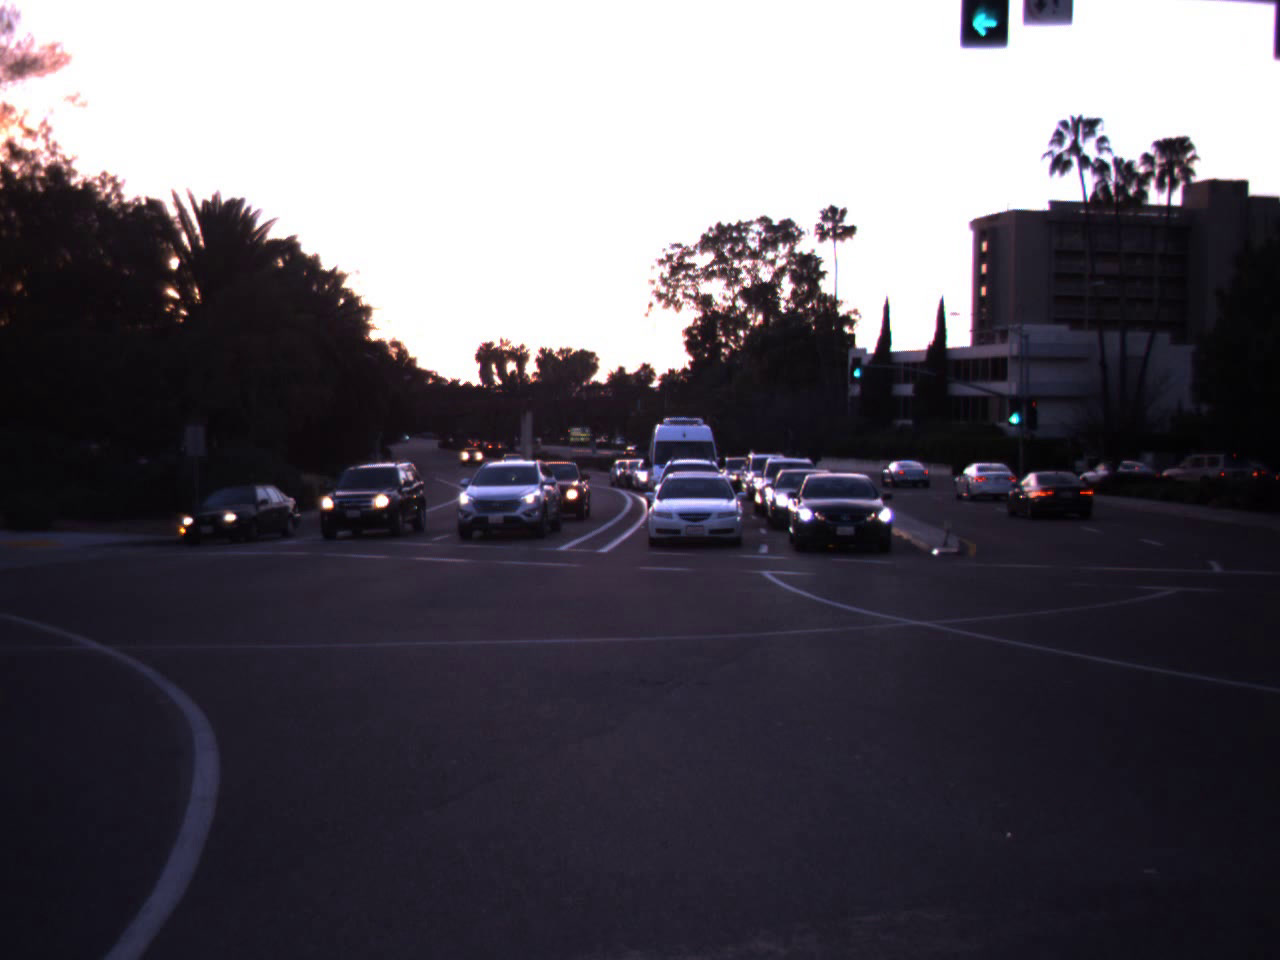go: (936, 0, 1032, 53), (995, 374, 1034, 429), (848, 349, 866, 379)
